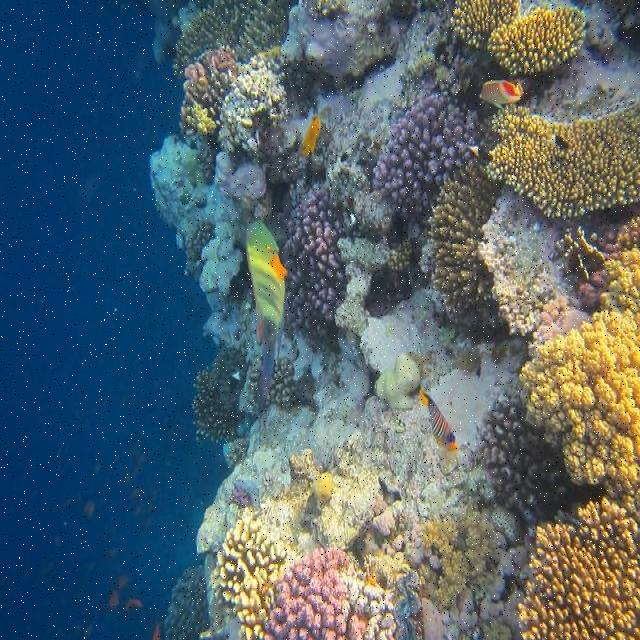fish: (246, 218, 286, 352), (420, 389, 456, 448), (480, 82, 524, 109), (299, 115, 321, 159)
reefs: (513, 219, 639, 498), (212, 508, 424, 639), (484, 92, 639, 223), (171, 2, 296, 154), (518, 498, 639, 638), (370, 91, 483, 223), (428, 160, 504, 324), (482, 394, 570, 524), (282, 187, 356, 340), (447, 0, 588, 75), (193, 346, 249, 445), (165, 563, 214, 639)
